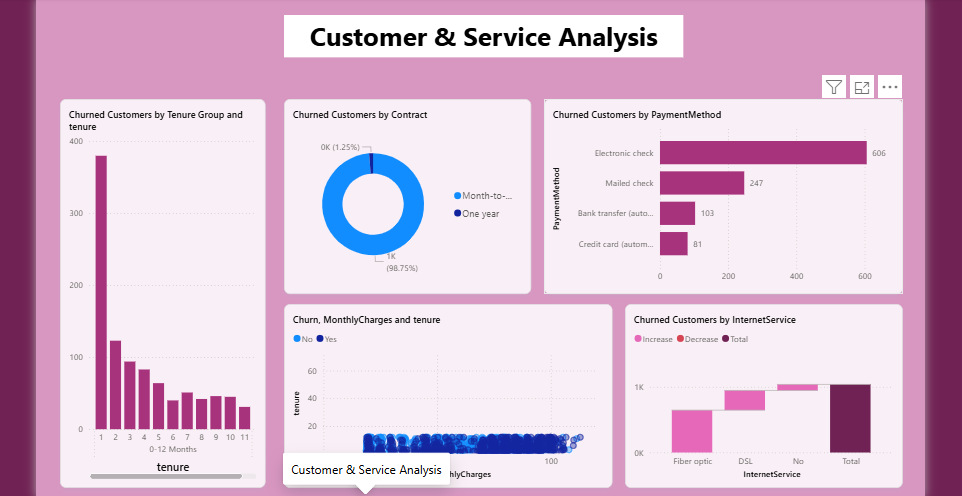

This screenshot's page, from the dashboard's own definition file:
{"tool":"powerbi","page":{"name":"Customer & Service Analysis","canvas":[1280,720],"ordinal":1},"visuals":[{"type":"textbox","box":[357.1,24.9,575.1,61.5],"z":0},{"type":"clusteredColumnChart","fields":{"Category":["Dim_Account.Tenure Group","Dim_Account.tenure"],"Y":["Fact_Churn.Churned Customers"]},"box":[35.1,144.9,295.6,560.5],"z":1000},{"type":"donutChart","fields":{"Y":["Fact_Churn.Churned Customers"],"Category":["Fact_Churn.Contract"]},"box":[357.1,144.9,355.6,281],"z":2000},{"type":"clusteredBarChart","fields":{"Category":["Fact_Churn.PaymentMethod"],"Y":["Fact_Churn.Churned Customers"]},"box":[731.7,144.9,516.6,281],"z":3000},{"type":"waterfallChart","fields":{"Category":["Fact_Churn.InternetService"],"Y":["Fact_Churn.Churned Customers"]},"box":[848.8,440.5,399.5,264.9],"z":4000},{"type":"scatterChart","fields":{"X":["Dim_Account.MonthlyCharges"],"Y":["Dim_Account.tenure"],"Series":["Fact_Churn.Churn"]},"box":[357.1,440.5,472.7,264.9],"z":5000}]}

Visuals, with their boxes on the page's 1280x720 design canvas (x1, y1, x2, y2). These are canvas units, not pixel positions in the 962x496 screenshot, which may show the page scaled, cropped or inside an application window:
textbox: locate(357, 25, 932, 86)
clusteredColumnChart - Dim_Account.Tenure Group x Dim_Account.tenure: locate(35, 145, 331, 705)
donutChart - Fact_Churn.Churned Customers x Fact_Churn.Contract: locate(357, 145, 713, 426)
clusteredBarChart - Fact_Churn.PaymentMethod x Fact_Churn.Churned Customers: locate(732, 145, 1248, 426)
waterfallChart - Fact_Churn.InternetService x Fact_Churn.Churned Customers: locate(849, 440, 1248, 705)
scatterChart - Dim_Account.MonthlyCharges x Dim_Account.tenure: locate(357, 440, 830, 705)
